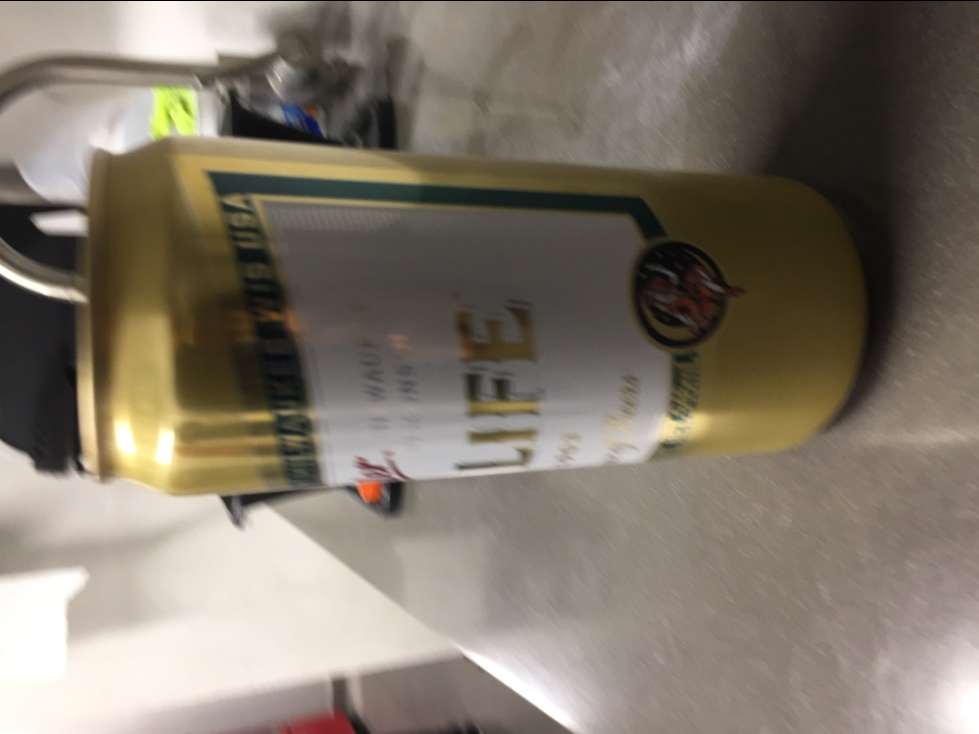miller: (74, 136, 878, 492)
